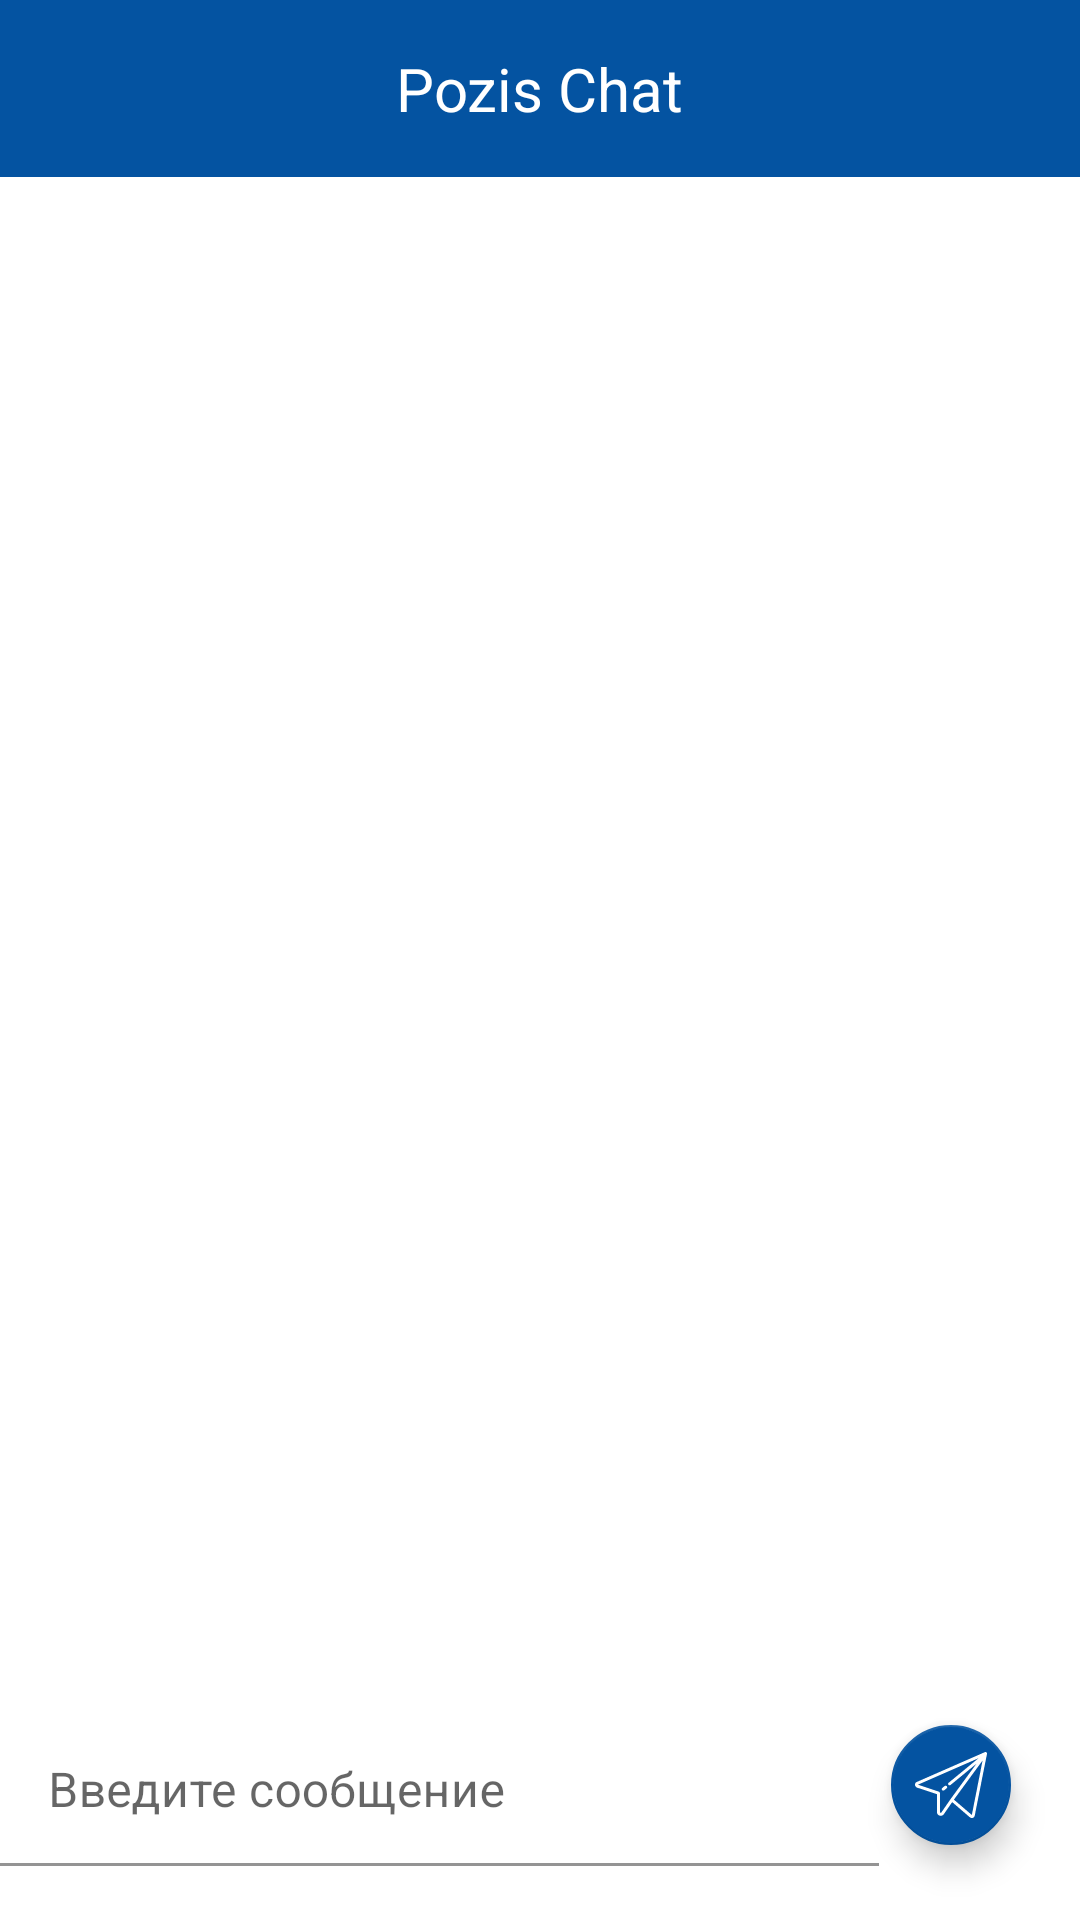

Where to tap for icons on this 1080x1920 app screen, as [x,y]:
send paper: [952,1791]
